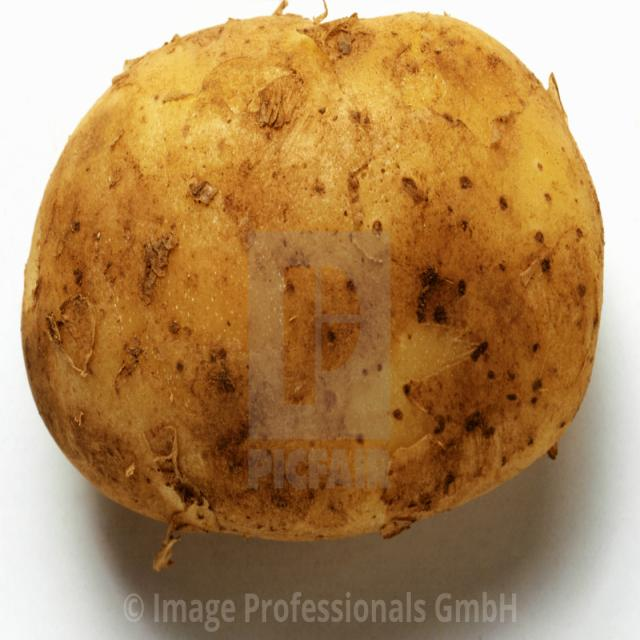potato: (23, 13, 604, 540)
